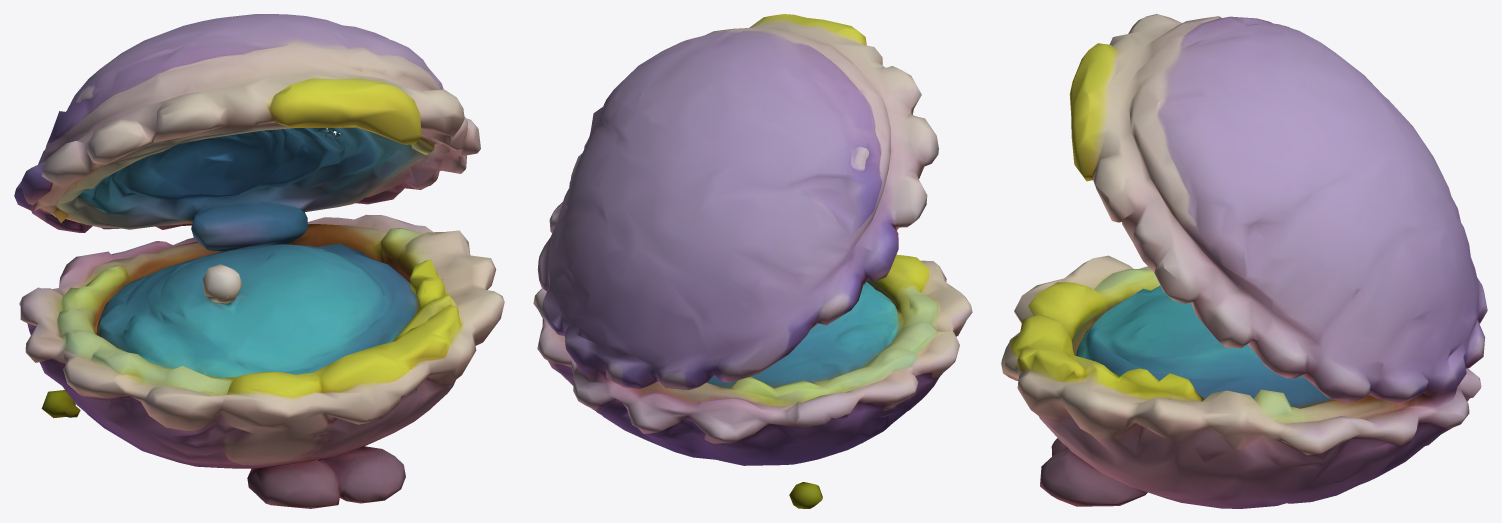
The model's file is giant-clam.glb.
3 views of the same model, side by side, from view 1: azimuth 30°, elevation 25°; view 2: azimuth 150°, elevation 25°; view 3: azimuth 270°, elevation 25° (orthographic). The views are drawn at different scales.
Visible parts, largest first — view 1: tripo_node_fa35f860-ca98-4b9c-b9c5-026e0dafd8bd; view 2: tripo_node_fa35f860-ca98-4b9c-b9c5-026e0dafd8bd; view 3: tripo_node_fa35f860-ca98-4b9c-b9c5-026e0dafd8bd.
Boxes of the visible parts, bbox=[...] form: tripo_node_fa35f860-ca98-4b9c-b9c5-026e0dafd8bd: bbox=[14, 14, 504, 508]; tripo_node_fa35f860-ca98-4b9c-b9c5-026e0dafd8bd: bbox=[533, 14, 972, 508]; tripo_node_fa35f860-ca98-4b9c-b9c5-026e0dafd8bd: bbox=[1001, 14, 1487, 508].
Bounding box in the file's own units: 3.08 × 3 × 3.11.
1 material, 1 textured.
